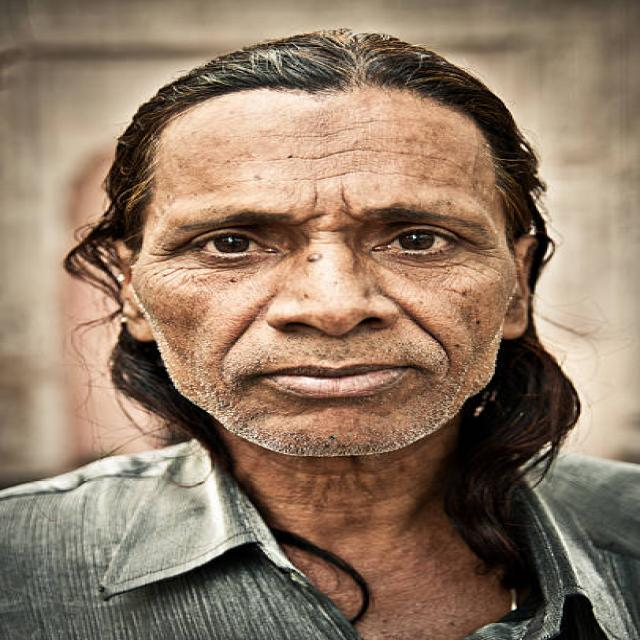moderate: (169, 257, 286, 270)
no_dark_circle: (385, 246, 487, 278)
